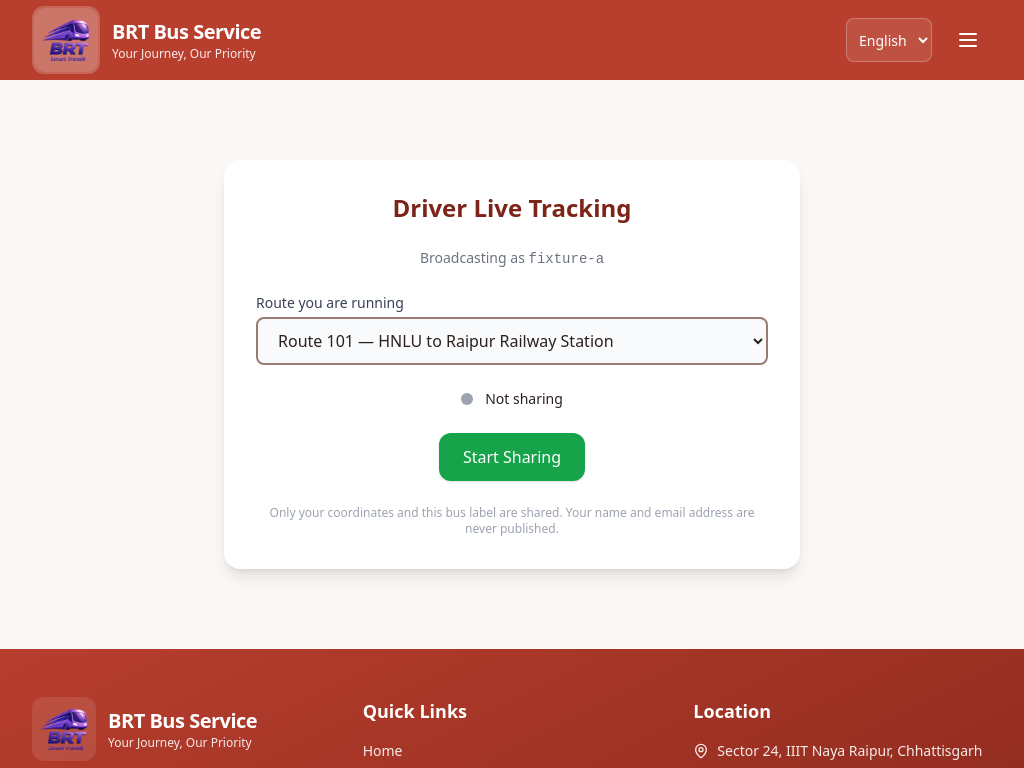
it: starting a shift › says so when live tracking cannot be reached
Click the button "Start Sharing".
click(512, 457)  # box left=439, top=433, right=585, bottom=481
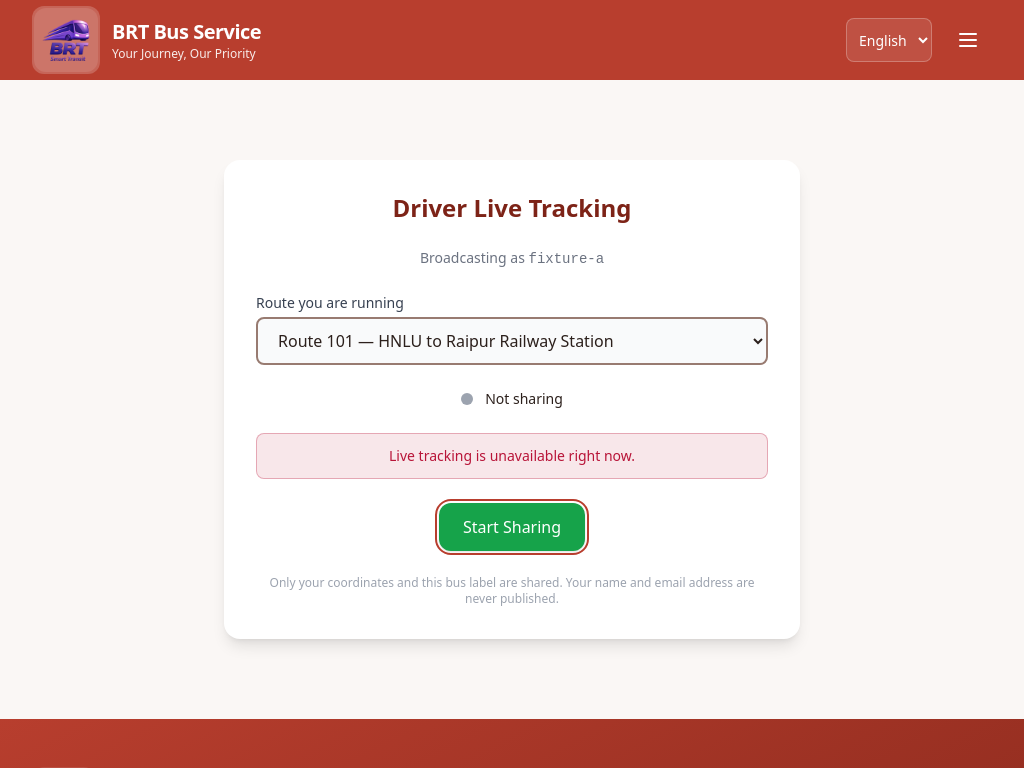
Expected: the text "Live tracking is unavailable right now." is shown, left=389, top=446, right=635, bottom=465
